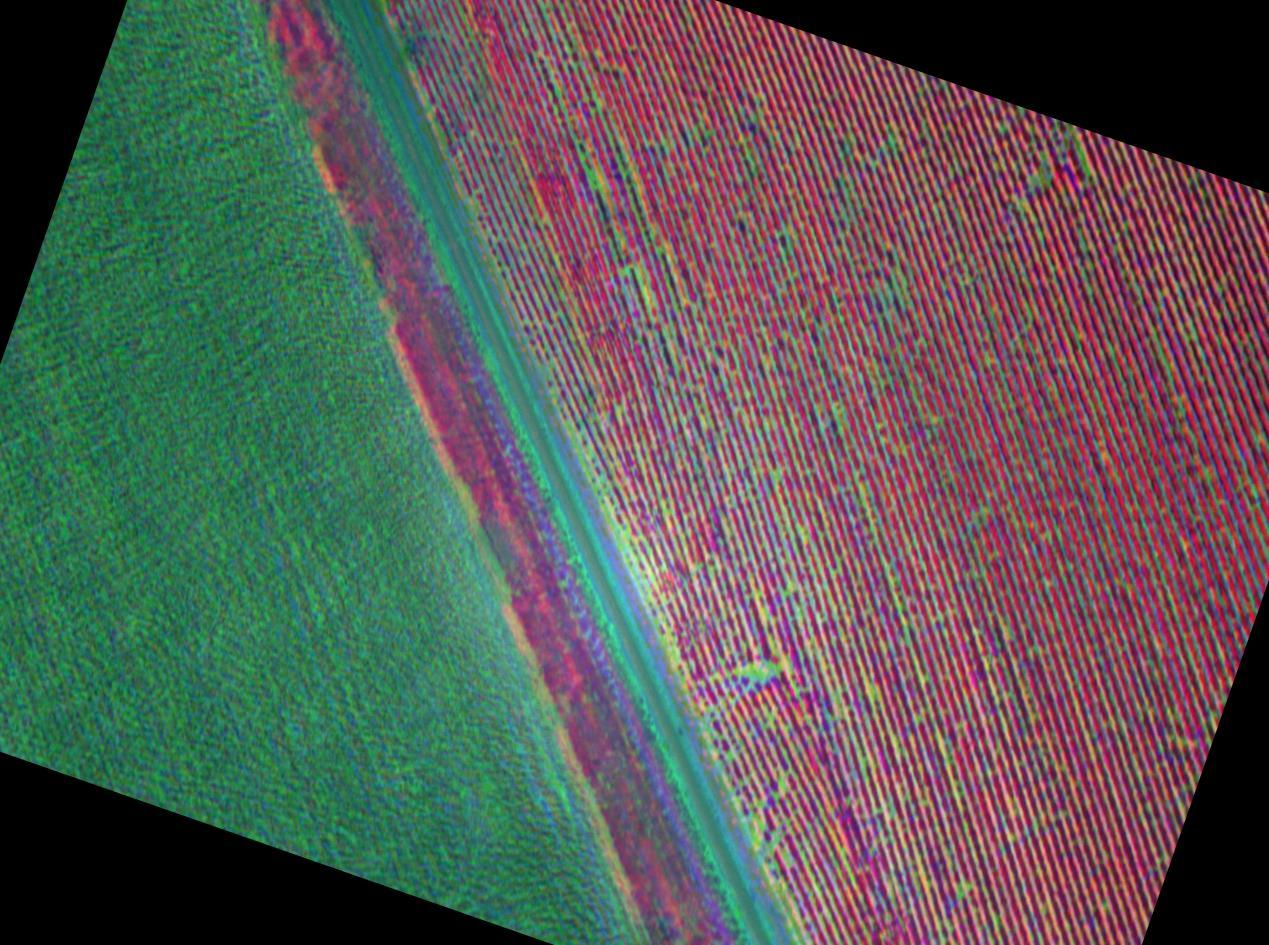dc: (772, 474, 778, 479), (787, 589, 791, 594), (784, 855, 788, 860), (589, 173, 593, 177), (772, 666, 776, 670), (743, 669, 747, 673), (959, 892, 963, 896), (779, 782, 783, 785)
